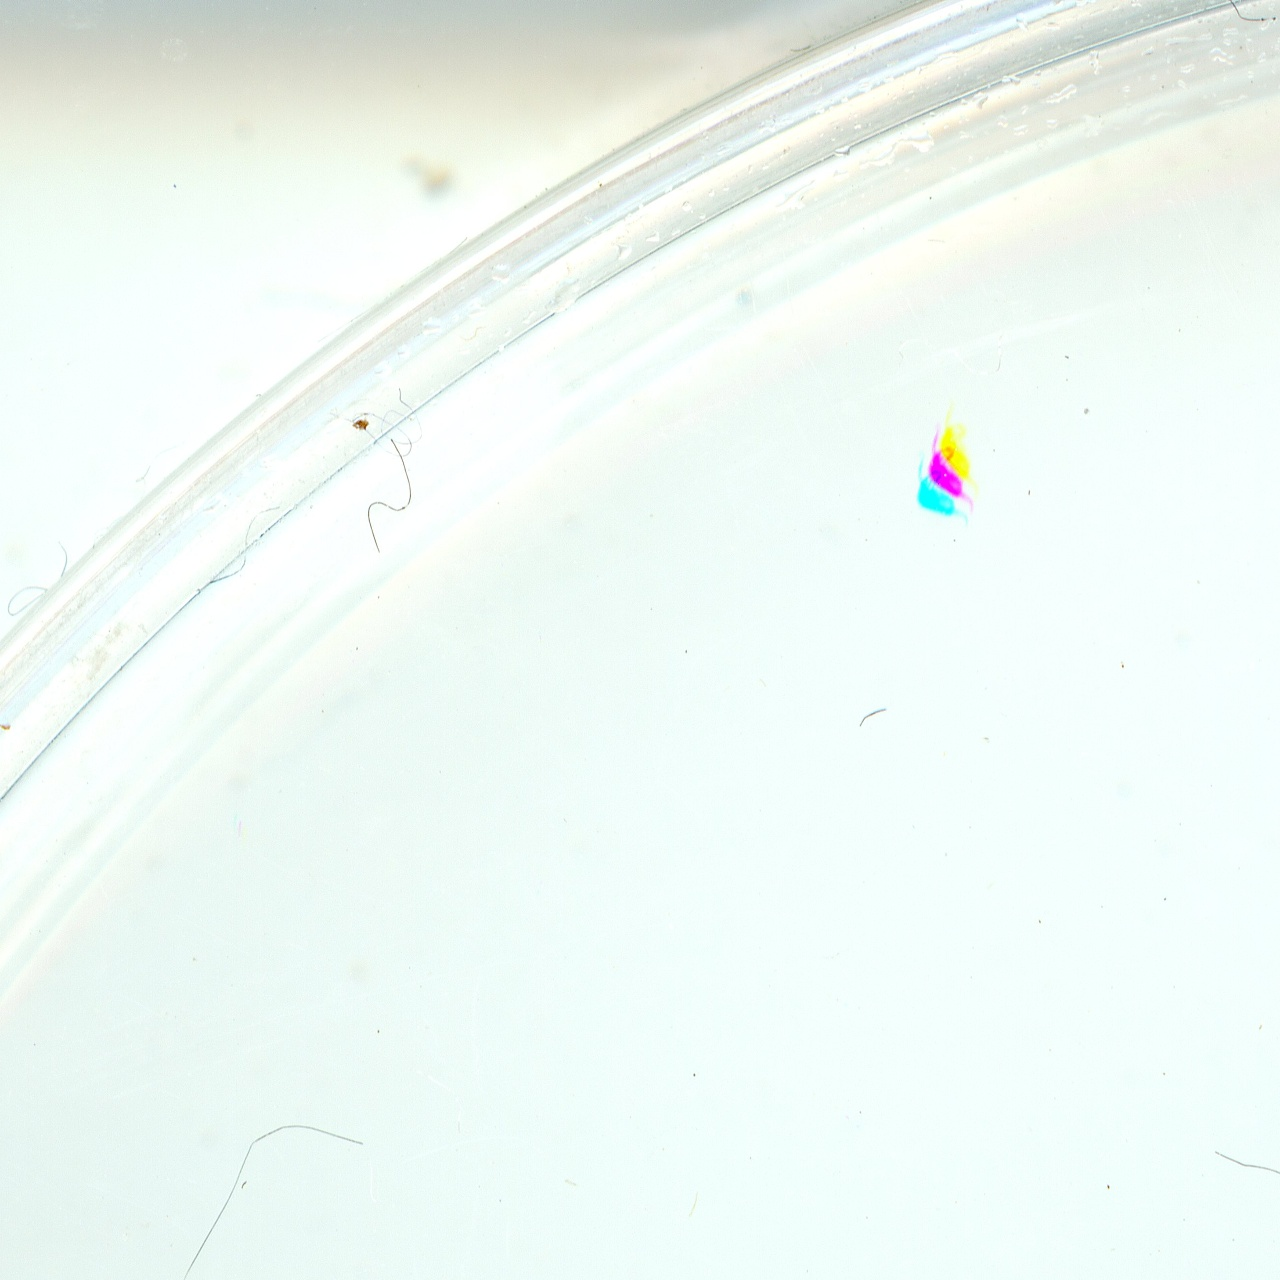arthropod: (910, 397, 989, 532)
